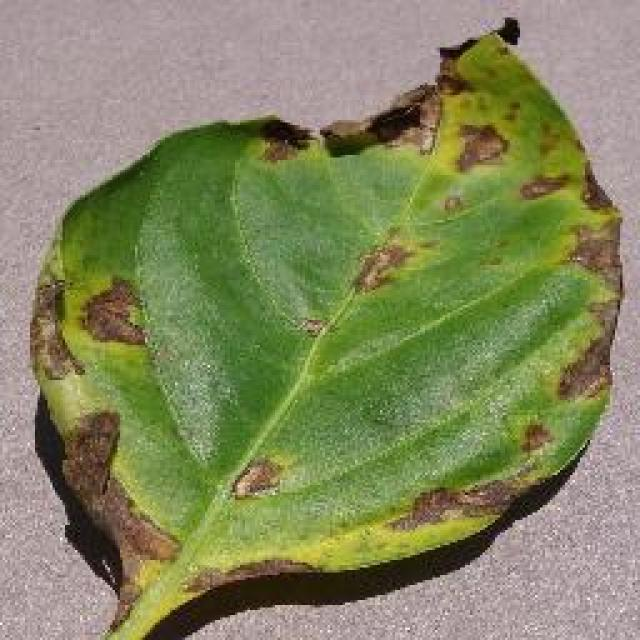Chilli_Bacterial_Spot: (22, 12, 628, 638), (55, 405, 123, 505), (25, 273, 85, 385), (78, 275, 150, 350), (565, 213, 625, 295), (348, 235, 418, 297), (450, 117, 510, 175), (255, 115, 315, 165), (315, 115, 380, 160), (227, 452, 285, 502), (512, 167, 570, 205), (513, 418, 555, 458), (292, 310, 328, 342)
